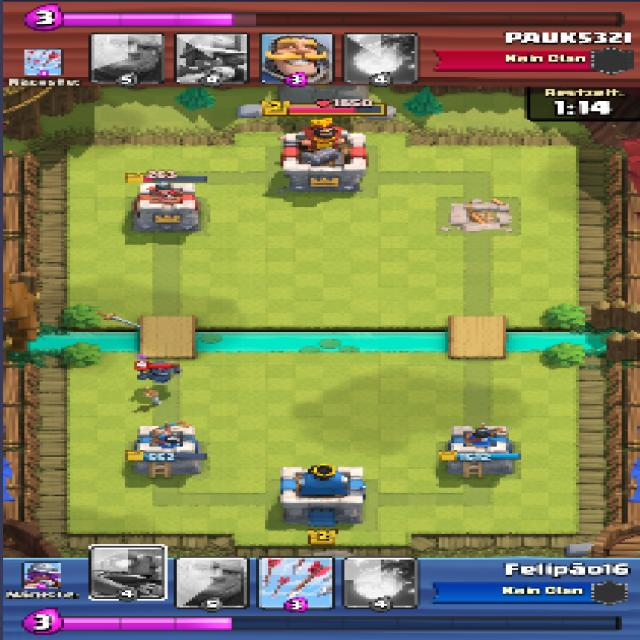Enemy-MiniPEKKA: (134, 366, 183, 384)
